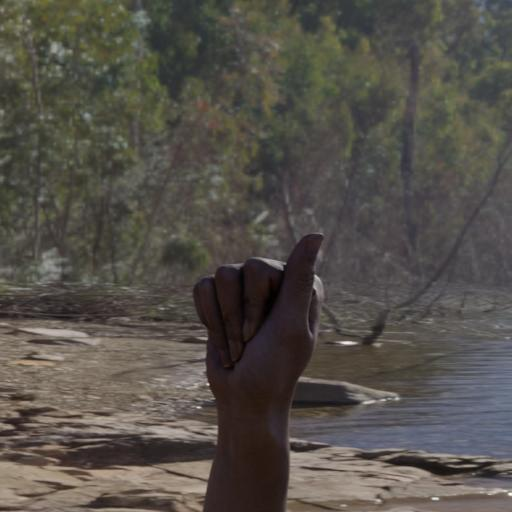A: (164, 216, 362, 422)
